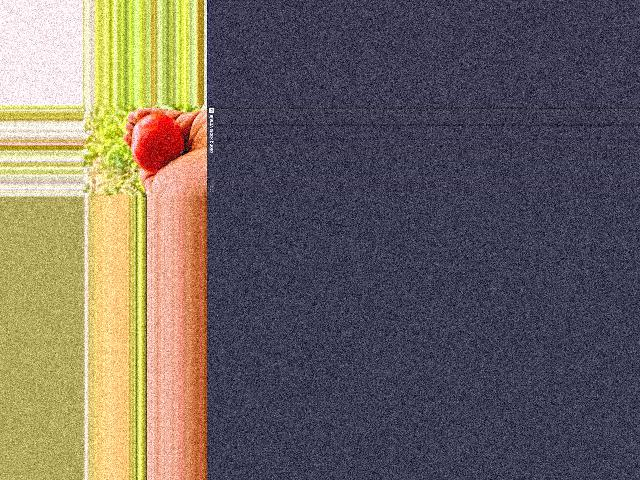tomato: (132, 114, 183, 172)
